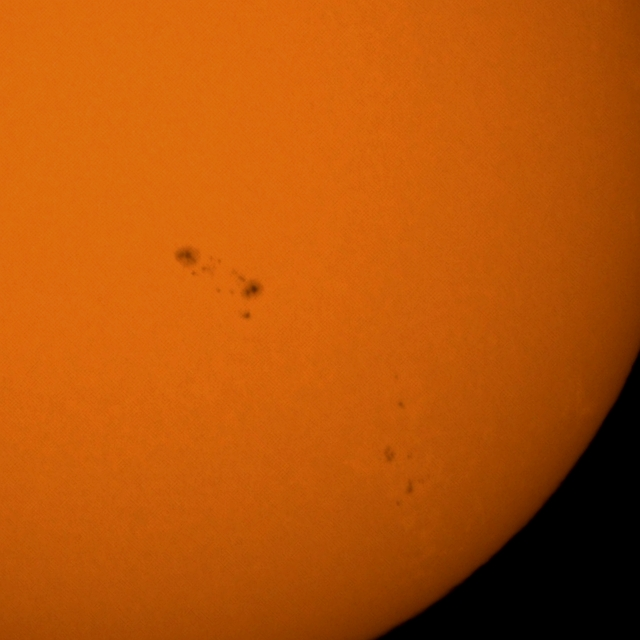sunspot: (175, 245, 223, 277), (227, 266, 261, 306), (380, 442, 412, 466), (394, 478, 416, 507), (380, 446, 397, 465), (240, 309, 252, 322), (397, 400, 406, 411), (215, 286, 222, 294)
